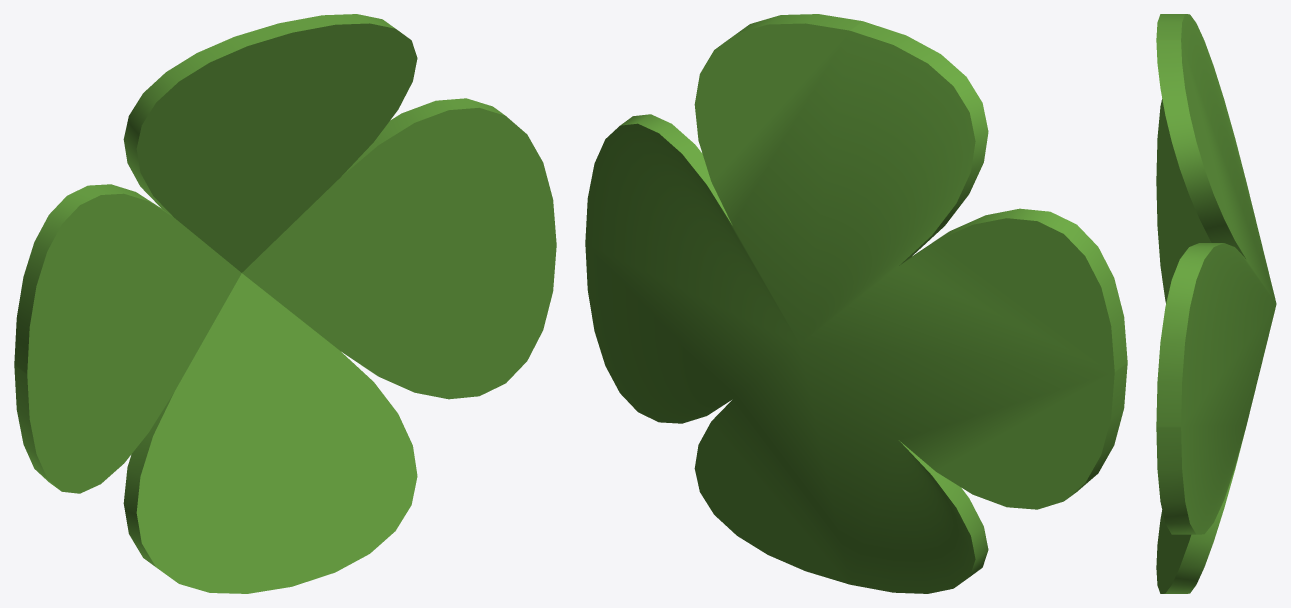
Rendered from Clever A Multi.fbx.
3 views of the same model, side by side, from view 1: azimuth 30°, elevation 25°; view 2: azimuth 150°, elevation 25°; view 3: azimuth 270°, elevation 25° (orthographic). The views are drawn at different scales.
Visible parts, largest first — view 1: Clever A; view 2: Clever A; view 3: Clever A.
Part boxes in pixels (left/top/right/bottom): Clever A: left=14, top=14, right=556, bottom=593; Clever A: left=585, top=14, right=1127, bottom=593; Clever A: left=1156, top=14, right=1276, bottom=593.
Size of the model in its own units: 0.9124 by 0.9124 by 0.1883.
